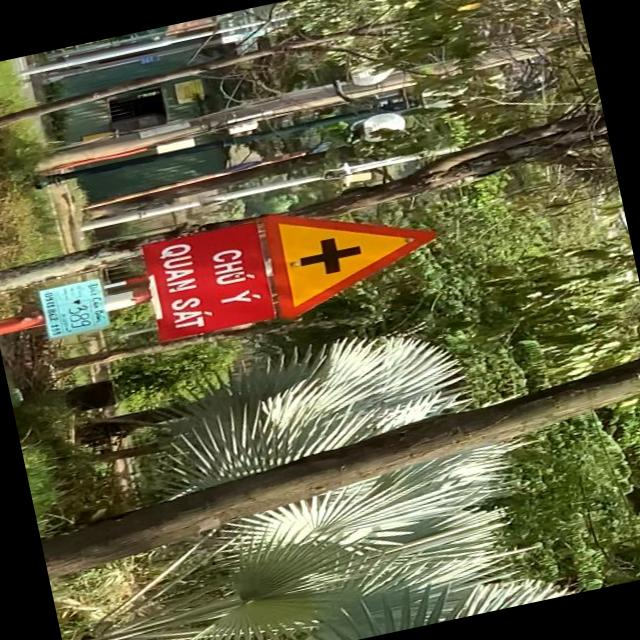W-205a: (261, 178, 448, 318)
